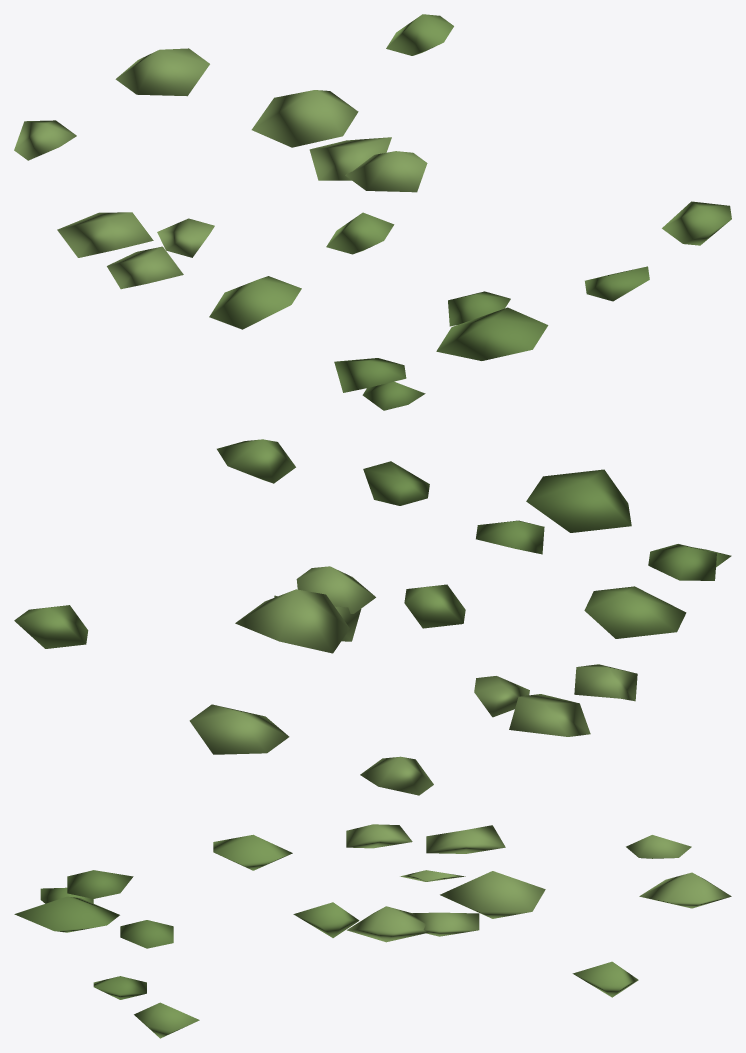
The model's file is canopy-2--1-18.glb.
3 views of the same model, one above another, from view 1: azimuth 30°, elevation 25°; view 2: azimuth 150°, elevation 25°; view 3: azimuth 270°, elevation 25° (orthographic). The views are drawn at different scales.
Bounding box in the file's own units: 102 × 22.5 × 135.
Materials: 1 (1 with a texture image).
